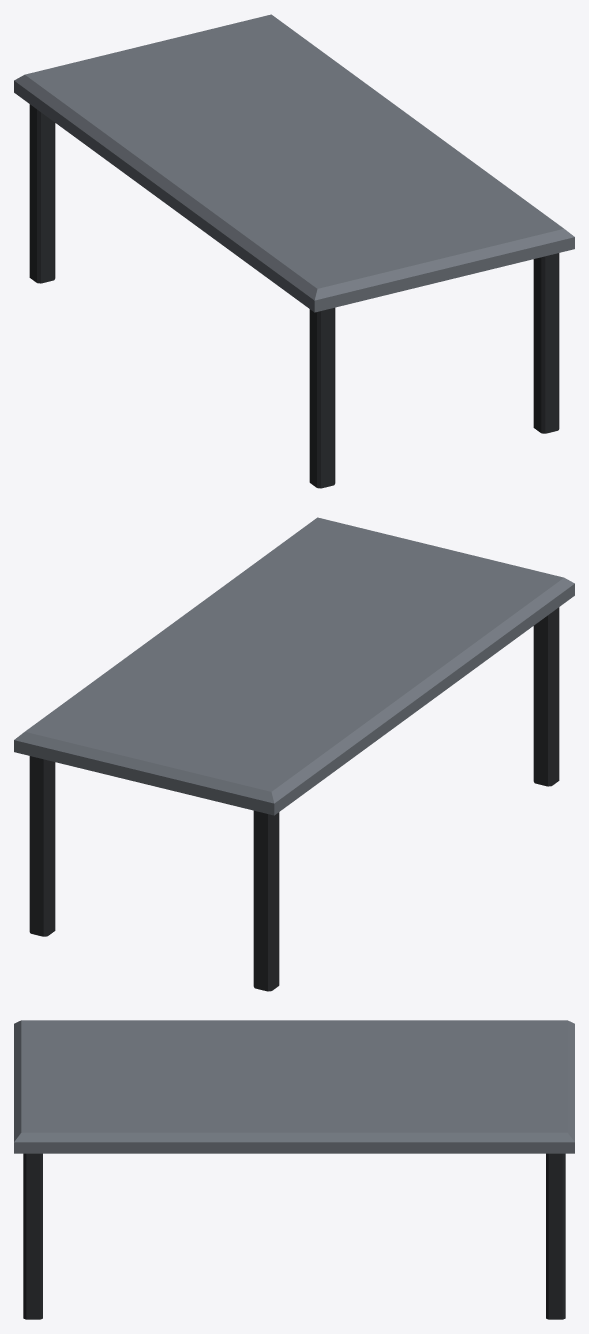
Rendered from Table Long.fbx.
The picture shows the model from 3 angles, top to bottom: view 1: azimuth 30°, elevation 25°; view 2: azimuth 150°, elevation 25°; view 3: azimuth 270°, elevation 25°; orthographic projection. The views are drawn at different scales.
Parts seen in each view (by area): view 1: Table Long; view 2: Table Long; view 3: Table Long.
Boxes of the visible parts, x1,y1,x2,y2 form: Table Long: (14, 14, 574, 488); Table Long: (14, 517, 574, 991); Table Long: (14, 1020, 574, 1319).
Size of the model in its own units: 100 by 73.99 by 200.
